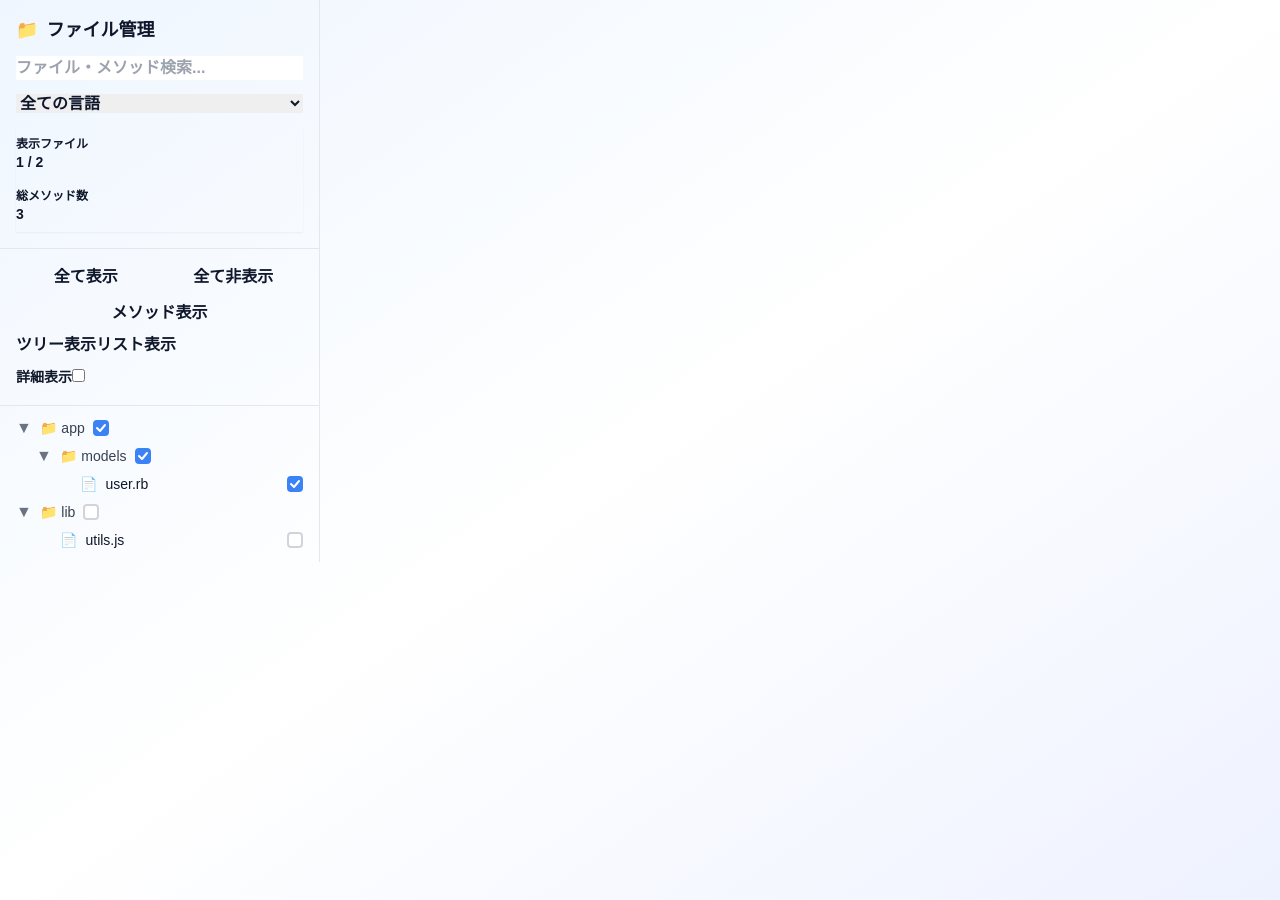
it: Sidebar コンポーネント › 言語別フィルタリング機能
Select "ruby" in the dropdown: {"x": 160, "y": 104} [16,94,303,113]
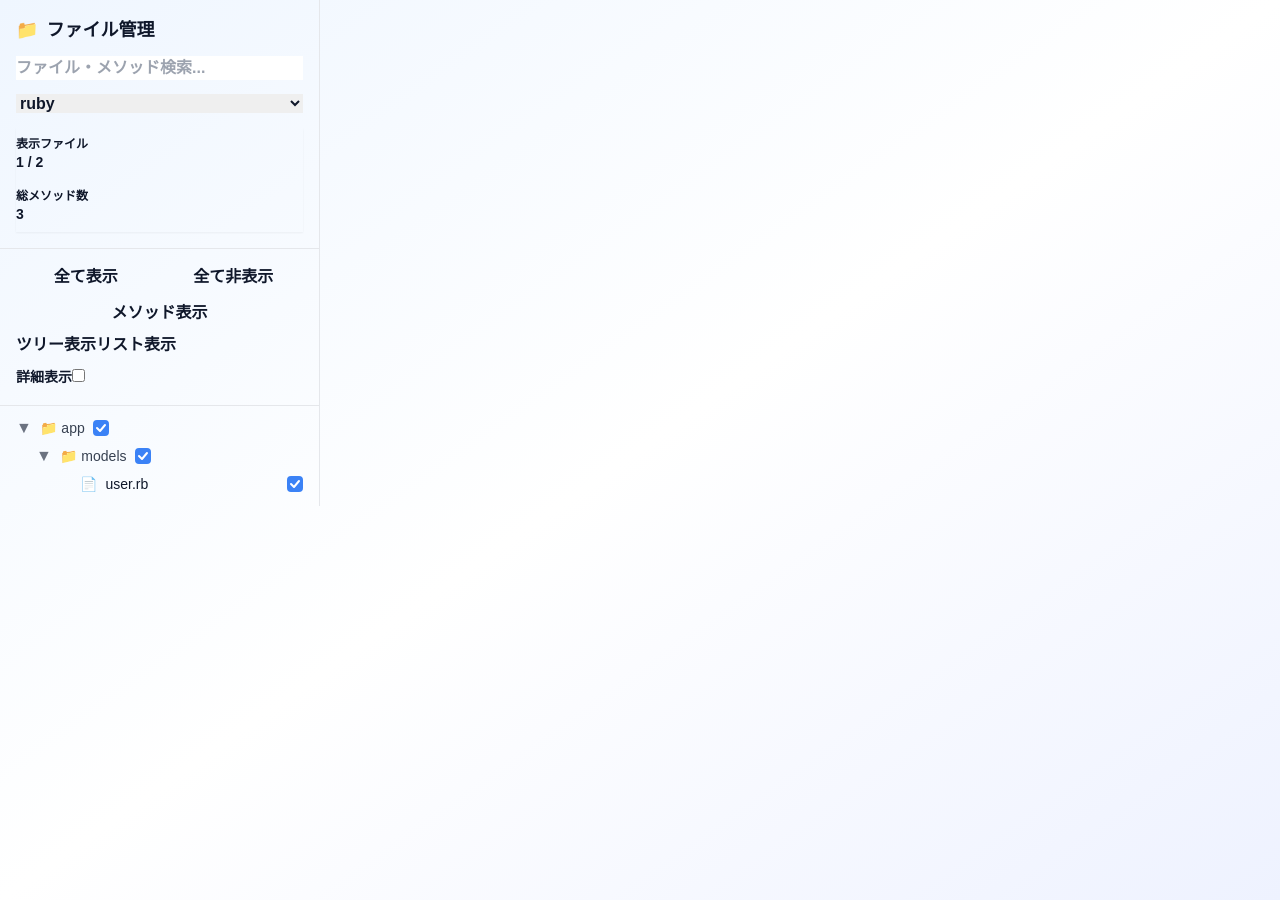
Expected: the text "user.rb" is shown, [106,474,148,494]
Expected: the text "utils.js" is gone
